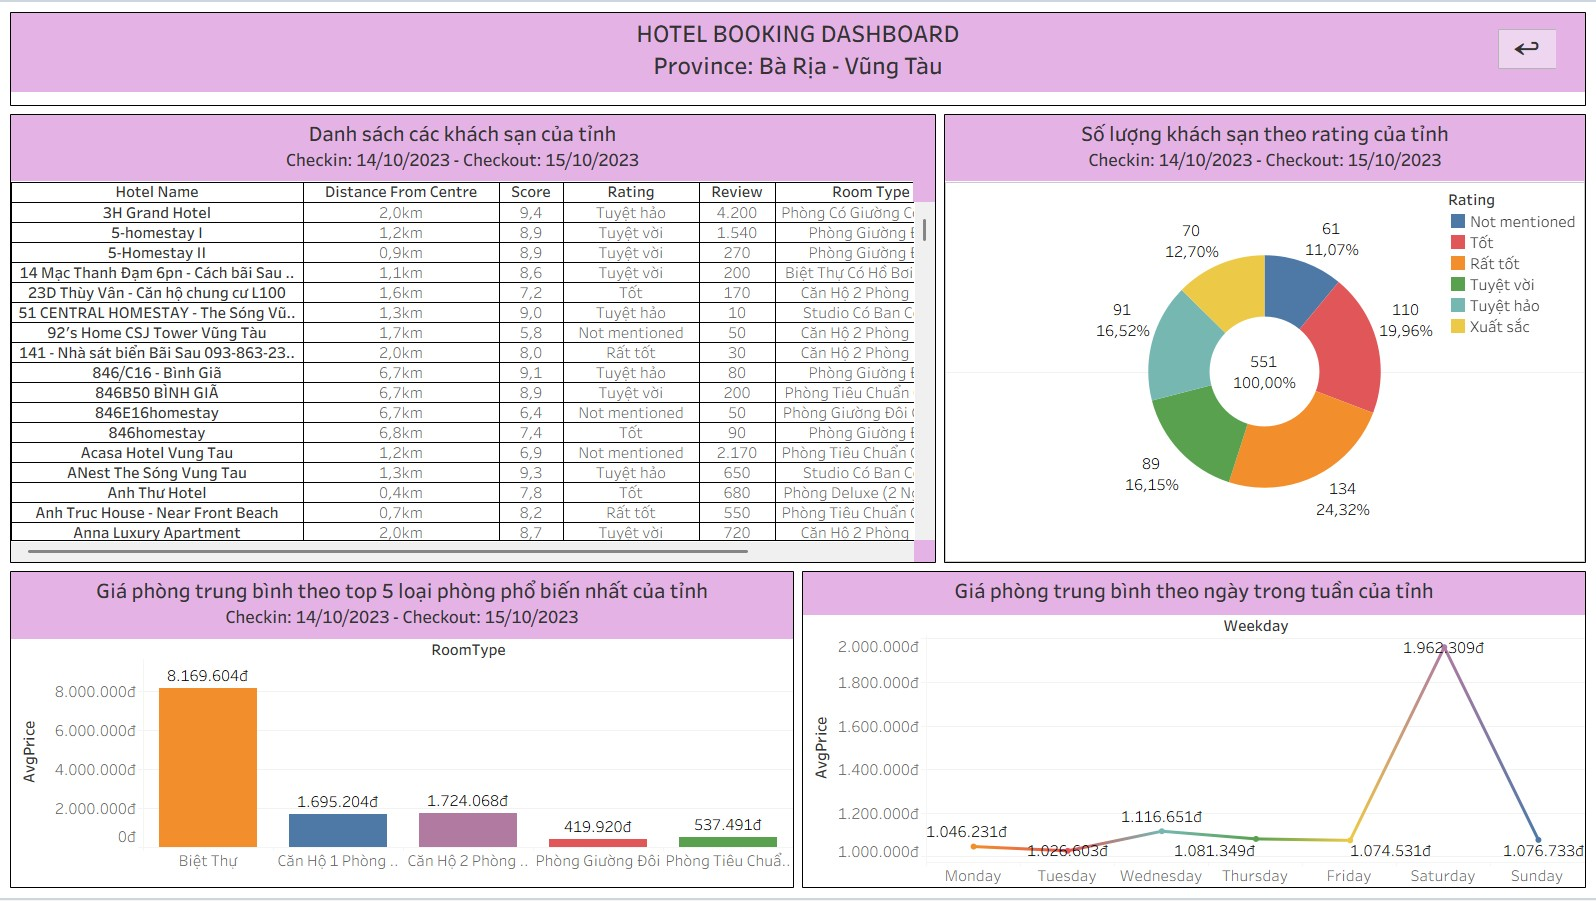

The page's visual inventory and layout, read from the dashboard file:
{"tool":"tableau","page":{"name":"Detail","canvas":[1000,1000],"units":"permille","ordinal":0},"visuals":[{"type":"worksheet","title":"Sheet 10","mark":"Automatic","box":[5,9.9,990,112.6]},{"type":"worksheet","title":"Sheet 9","mark":"Automatic","box":[937.4,31.8,36.6,44.7]},{"type":"worksheet","title":"Sheet 6","mark":"Polygon","rows":["HotelName","DistanceFromCentre","Score","Rating","Review","RoomType","Price"],"box":[5,122.5,584,506.7]},{"type":"worksheet","title":"Sheet 7","mark":"Pie","rows":["Calculation_192528894452531202","Calculation_192528894452531202"],"box":[589,122.5,406,506.7]},{"type":"legend","title":"Sheet 7","param":"[federated.01avzgi1olaq0z10yixzr1ttyp3h].[none:Rating:nk]","box":[910.2,201,83.4,222.1]},{"type":"worksheet","title":"Sheet 8","mark":"Automatic","rows":["Calculation_192528894452023296"],"box":[5,629.2,494.7,360.9]},{"type":"worksheet","title":"Sheet 5","mark":"Line","rows":["Calculation_192528894452023296"],"cols":["Weekday"],"box":[499.7,629.2,495.3,360.9]}]}

Visuals, with their boxes on the dashboard's canvas, which has no fixed pixel size, in thousandths of its width and height (x1, y1, x2, y2). These are canvas units, not pixel positions in the 1596x901 screenshot, which may show the page scaled, cropped or inside an application window:
"Sheet 10" worksheet: bbox=[5, 10, 995, 122]
"Sheet 9" worksheet: bbox=[937, 32, 974, 76]
"Sheet 6" worksheet (Polygon marks): bbox=[5, 122, 589, 629]
"Sheet 7" worksheet (Pie marks): bbox=[589, 122, 995, 629]
"Sheet 7" legend: bbox=[910, 201, 994, 423]
"Sheet 8" worksheet: bbox=[5, 629, 500, 990]
"Sheet 5" worksheet (Line marks): bbox=[500, 629, 995, 990]
